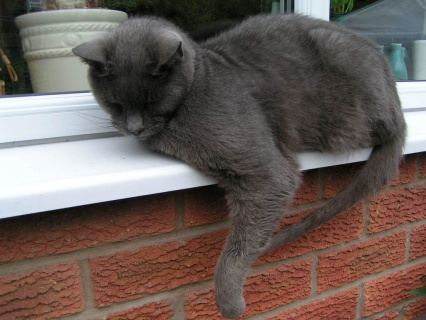Cat: (67, 13, 408, 317)
